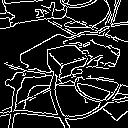cube: (42, 40, 95, 81)
